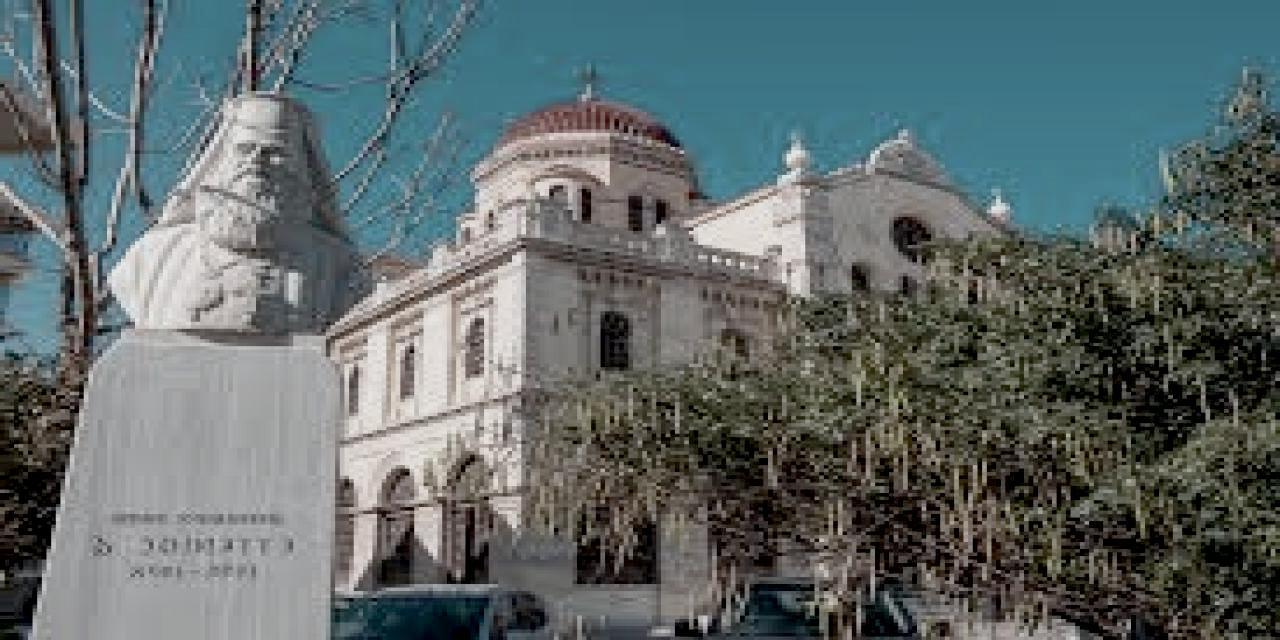Agios Minas: (323, 60, 1082, 628)
